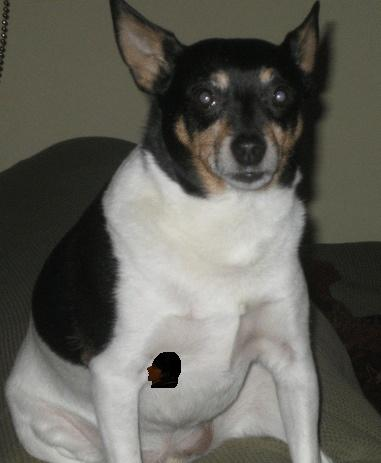tampered: (148, 353, 181, 388)
